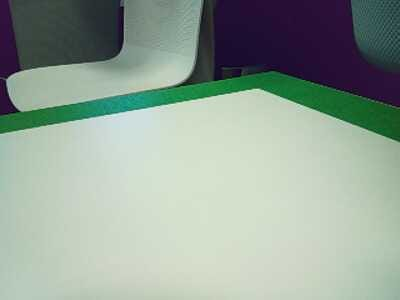linea_cerca: (1, 70, 400, 142)
